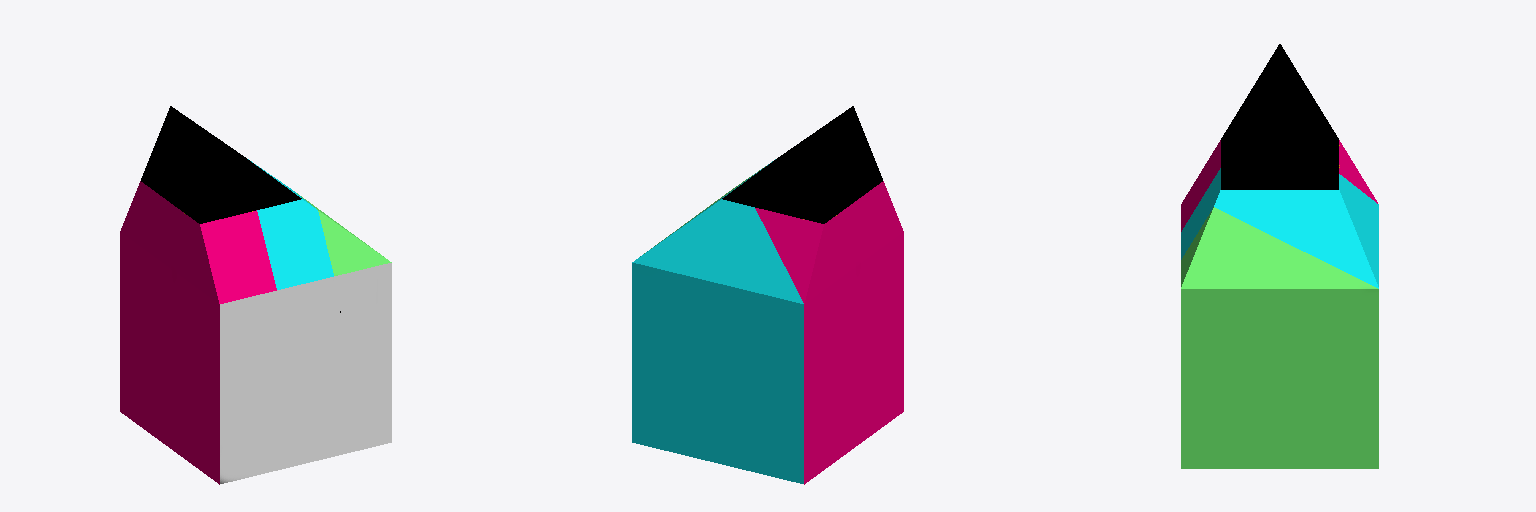
3 views of the same model, side by side, from view 1: azimuth 30°, elevation 25°; view 2: azimuth 150°, elevation 25°; view 3: azimuth 270°, elevation 25° (orthographic).
Visible parts, largest first — view 1: Cube.001; view 2: Cube.001; view 3: Cube.001.
Part boxes in pixels (x1,y1,x2,y2): Cube.001: (120,106,391,484); Cube.001: (632,106,903,484); Cube.001: (1181,44,1378,468).
Size of the model in its own units: 2 by 3.8 by 2.
Materials: 1 (1 with a texture image).